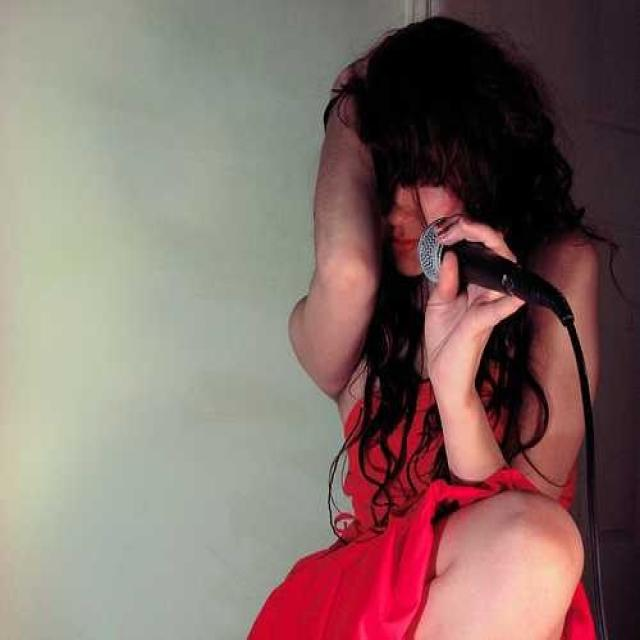microphone: (416, 216, 570, 324)
